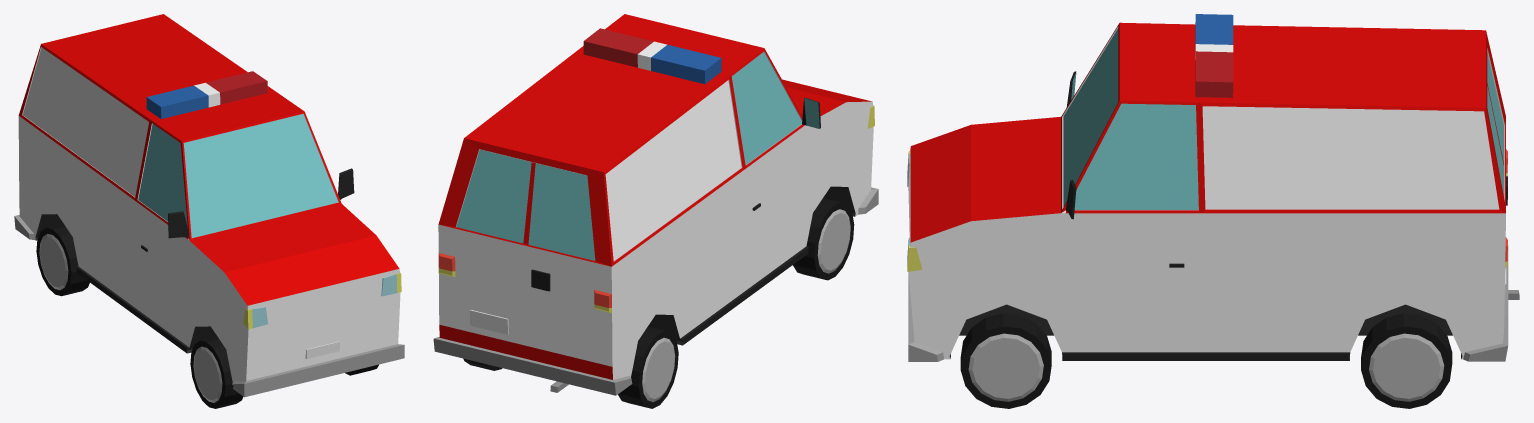
The model's file is lp_car9.fbx.
3 renders of one model, left to right at view 1: azimuth 30°, elevation 25°; view 2: azimuth 150°, elevation 25°; view 3: azimuth 270°, elevation 25°, orthographic. The views are drawn at different scales.
Parts seen in each view (by area): view 1: Car, wheel_BR, wheel_FR; view 2: Car, wheel_FR, wheel_BR; view 3: Car, wheel_BL, wheel_FL.
Part boxes in pixels (box(x1,y1,x2,y2)): Car: box(14, 14, 404, 397); wheel_BR: box(36, 223, 89, 296); wheel_FR: box(190, 336, 243, 408); Car: box(433, 14, 878, 395); wheel_FR: box(793, 198, 854, 280); wheel_BR: box(618, 326, 678, 408); Car: box(907, 14, 1519, 361); wheel_BL: box(1361, 313, 1452, 408); wheel_FL: box(960, 313, 1051, 408).
Bounding box in the file's own units: 243 × 301 × 537.
